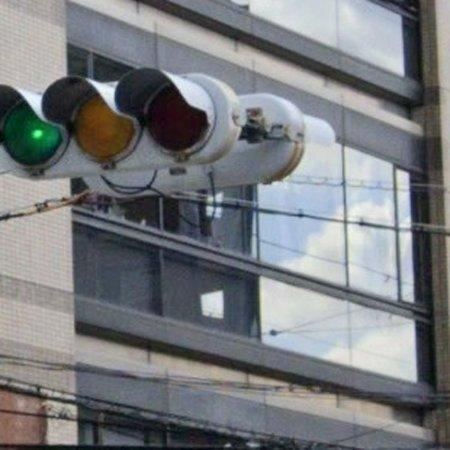traffic lights: (0, 65, 239, 179), (76, 94, 315, 197)
